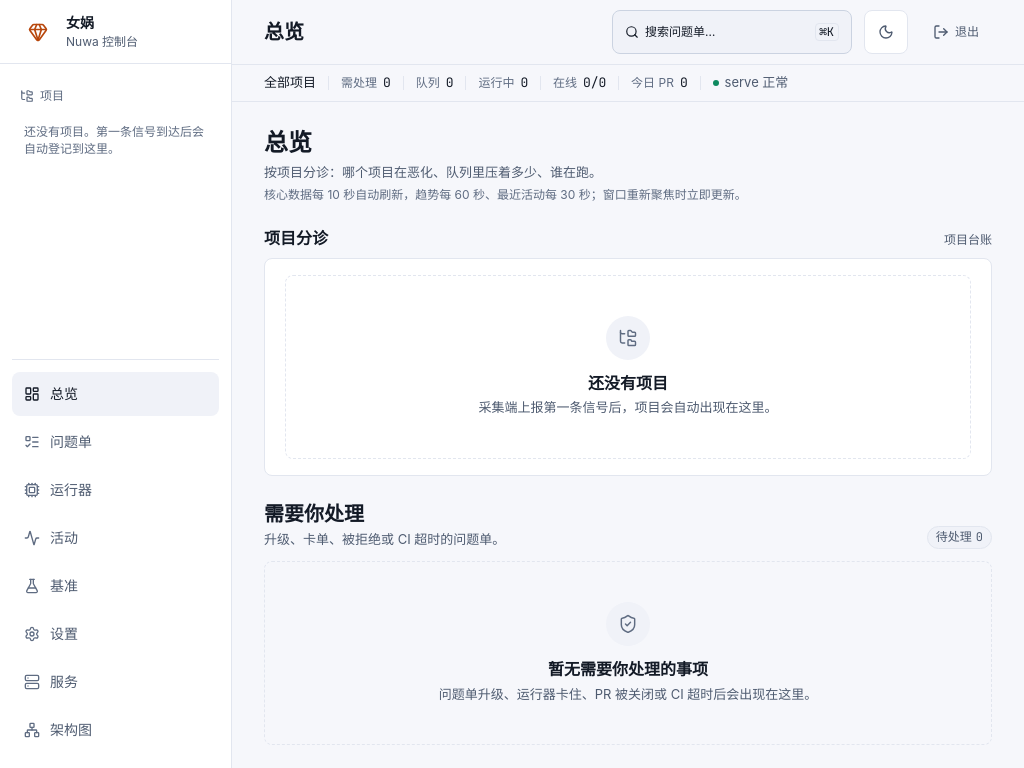
CommandPalette › surfaces request errors outside the retry control
Expected: the 1st heading "总览" is shown, x1=264 y1=20 x2=304 y2=44
Press k
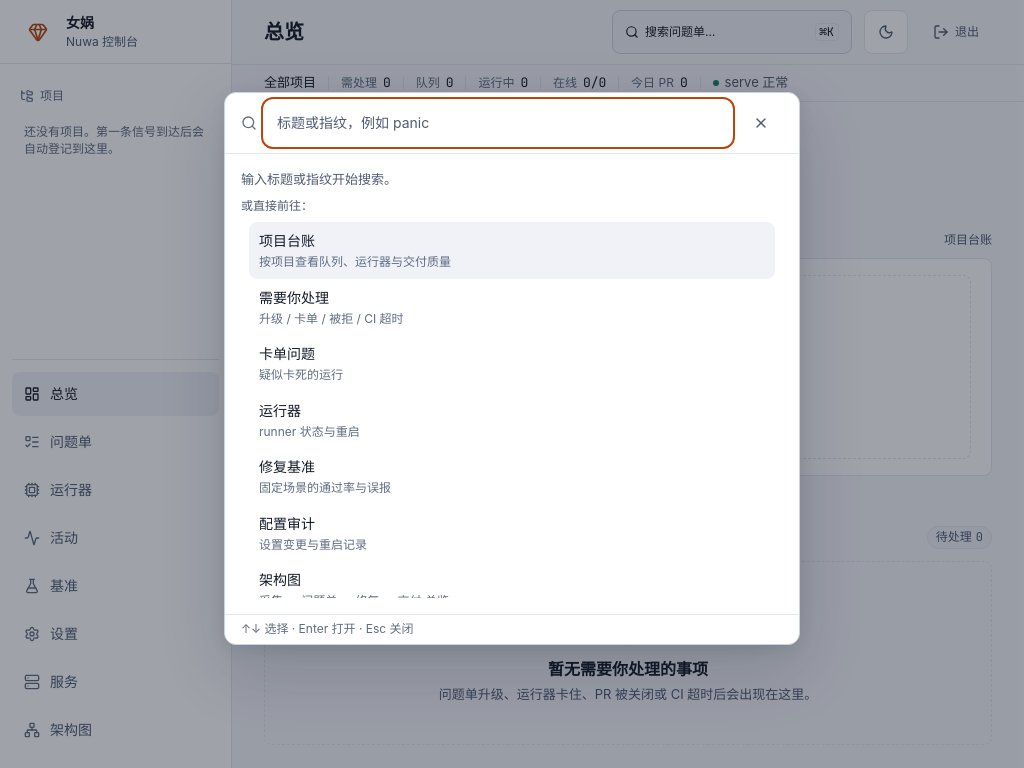
Type "panic" into the search field at (498, 123), box x1=265 y1=101 x2=731 y2=145
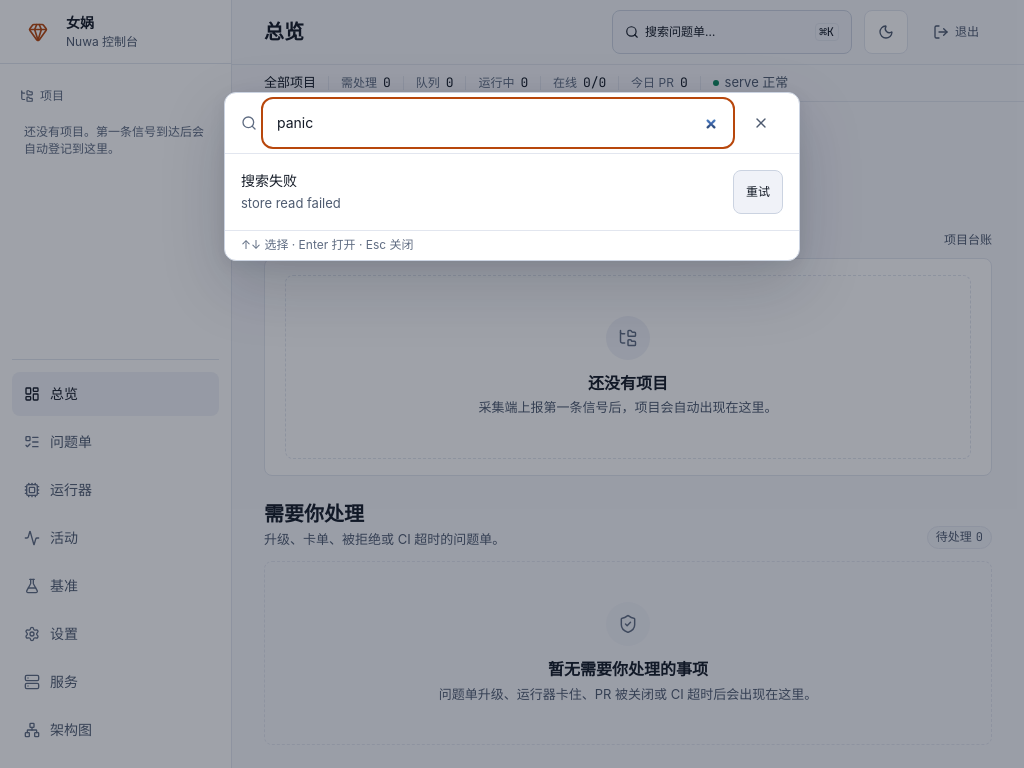
Result: the message shows "搜索失败" at x1=241 y1=172 x2=297 y2=189
Result: the message shows "store read failed" at x1=241 y1=195 x2=341 y2=211
Result: the button "项目台账 按项目查看队列、运行器与交付质量" is gone
